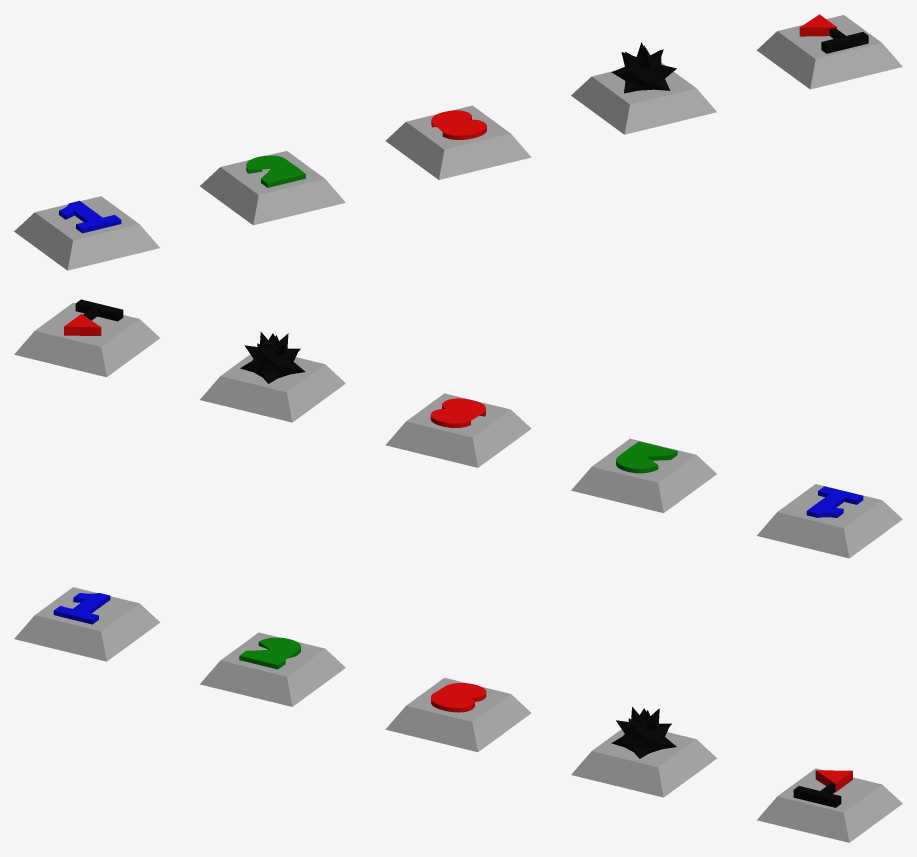
Rendered from Models.fbx.
3 renders of one model, top to bottom at view 1: azimuth 30°, elevation 25°; view 2: azimuth 150°, elevation 25°; view 3: azimuth 330°, elevation 25°, orthographic.
Parts seen in each view (by area): view 1: pCube1, pCube5, pCube2, pCube4, pCube3, pSphere1, typeMesh2, typeMesh3, typeMesh1, pCube6, pCube8; view 2: pCube1, pCube5, pCube4, pCube3, pCube2, pSphere1, typeMesh2, typeMesh3, typeMesh1, pCube8, pCube6; view 3: pCube1, pCube5, pCube2, pCube3, pCube4, pSphere1, typeMesh3, typeMesh2, typeMesh1, pCube6, pCube8.
Boxes of the visible parts, <box> form: pCube1: <box>14,196,159,270</box>; pCube5: <box>757,15,902,89</box>; pCube2: <box>200,151,345,225</box>; pCube4: <box>385,105,531,179</box>; pCube3: <box>571,63,716,134</box>; pSphere1: <box>611,42,676,93</box>; typeMesh2: <box>246,155,305,187</box>; typeMesh3: <box>431,110,486,139</box>; typeMesh1: <box>59,200,121,233</box>; pCube6: <box>821,32,868,53</box>; pCube8: <box>799,14,836,36</box>; pCube1: <box>757,484,902,558</box>; pCube5: <box>14,302,159,377</box>; pCube4: <box>385,393,531,467</box>; pCube3: <box>200,354,345,422</box>; pCube2: <box>571,438,716,513</box>; pSphere1: <box>240,332,305,383</box>; typeMesh2: <box>616,441,677,473</box>; typeMesh3: <box>430,398,485,427</box>; typeMesh1: <box>806,486,863,517</box>; pCube8: <box>64,314,101,335</box>; pCube6: <box>75,299,123,321</box>; pCube1: <box>14,587,159,661</box>; pCube5: <box>757,768,902,842</box>; pCube2: <box>200,632,345,706</box>; pCube3: <box>571,729,716,797</box>; pCube4: <box>385,677,531,752</box>; pSphere1: <box>611,707,676,758</box>; typeMesh3: <box>431,683,486,712</box>; typeMesh2: <box>239,637,300,669</box>; typeMesh1: <box>53,593,110,624</box>; pCube6: <box>793,786,841,807</box>; pCube8: <box>815,770,852,792</box>.
Bounding box in the file's own units: 9 × 0.6419 × 1.
